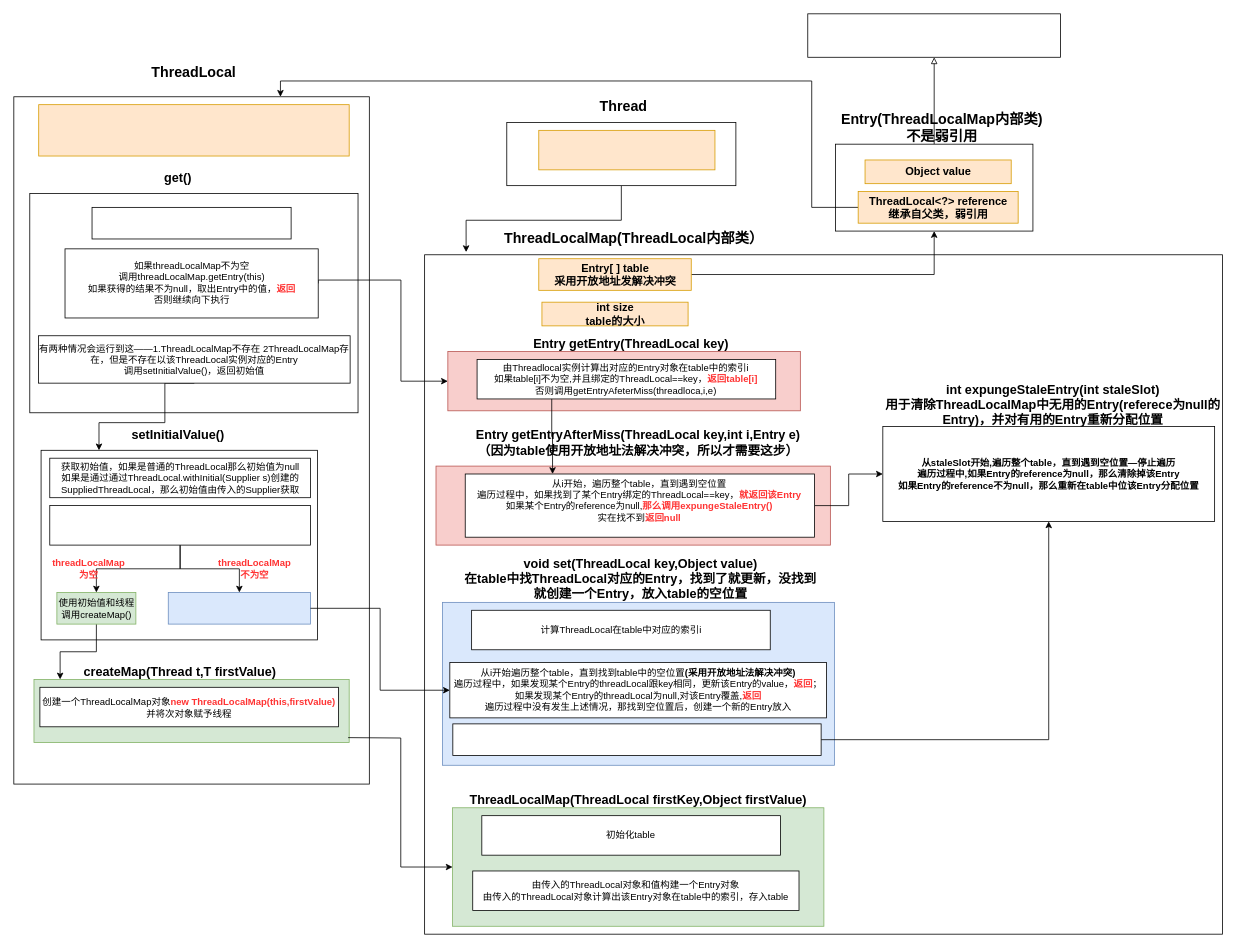
This 1247x948 diagram has some shape labels left out. Each missing label, with the centre of its shape:
int threadLocalHashCode 每个ThreadLocal实例都有一个 用于计算该ThreadLocal实例在线程的Entry数组中的索引: [193,130]
ThreadLocalMap threadLocals: [626,150]
WeakReference<ThreadLocal<?>>: [934,35]
如果没有发生Entry清除并且Entry数目超过阈值，对table扩容 Entry清除与expungeStaleEntry()有关: [636,739]
获取当前线程及其ThreadLocalMap: [191,223]
获取线程的ThreadLocalMap: [179,525]
调用threadLocalMap.set(this,value): [238,608]
